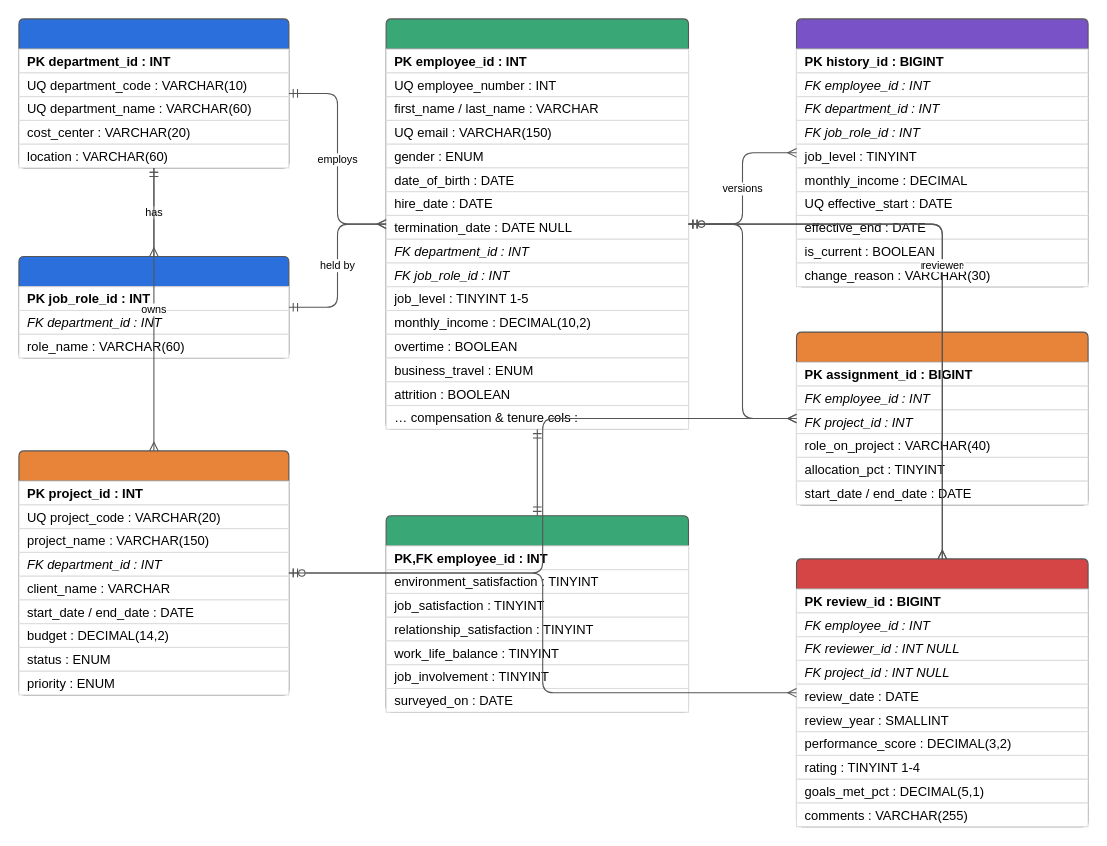
Some shapes in this 1107 by 846 pixel diagram are drawn without their labels. The shapes that lost their labels are listed below. From the top down, each one's box as (x1, y1, x2, y2) in pixels, then its label:
(18, 18, 289, 168): departments
(795, 18, 1088, 287): employee_history
(385, 18, 688, 429): employees
(18, 255, 289, 358): job_roles
(795, 331, 1088, 505): assignments
(18, 450, 289, 695): projects
(385, 515, 688, 712): employee_engagement
(795, 558, 1088, 827): reviews
